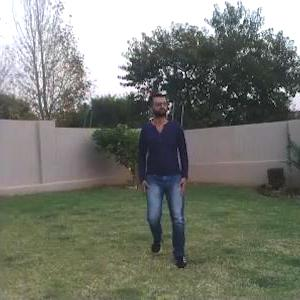follow: (139, 86, 188, 253)
